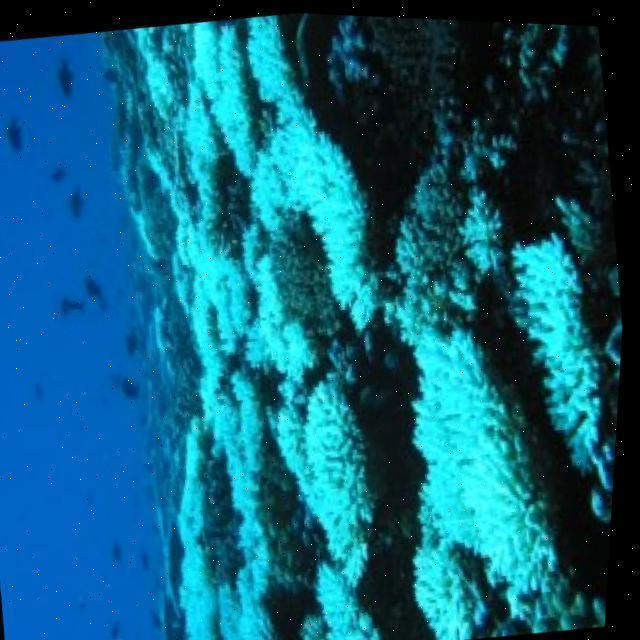Bleached Coral: (86, 4, 441, 640), (362, 134, 634, 640)
